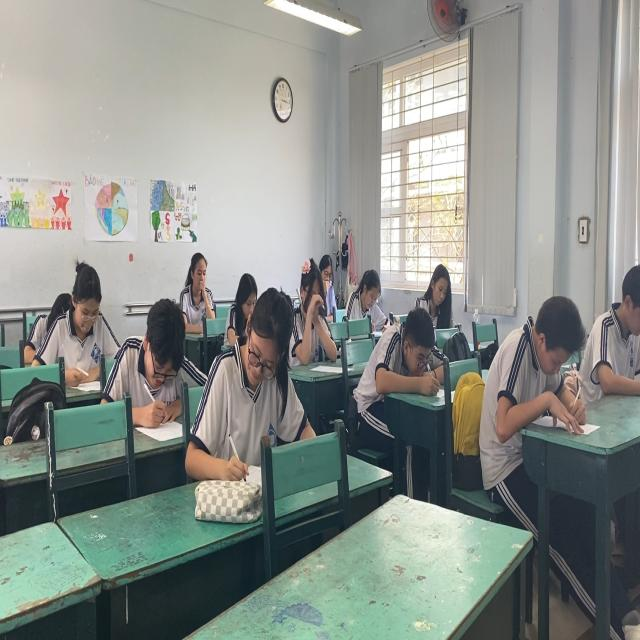not_cheating: (212, 284, 292, 460), (504, 287, 588, 422), (121, 300, 198, 428), (50, 259, 120, 362), (368, 307, 448, 393), (281, 241, 330, 362), (172, 252, 221, 335), (410, 259, 462, 328), (344, 256, 388, 328)
